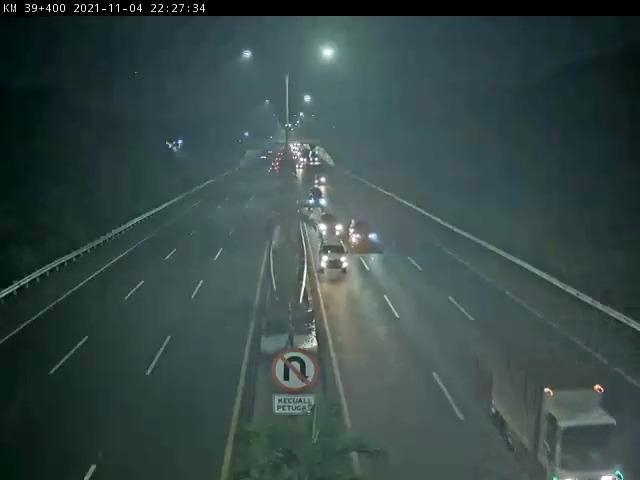car: (349, 219, 379, 252), (322, 238, 349, 272), (319, 214, 343, 236)
truck: (487, 327, 625, 480)
